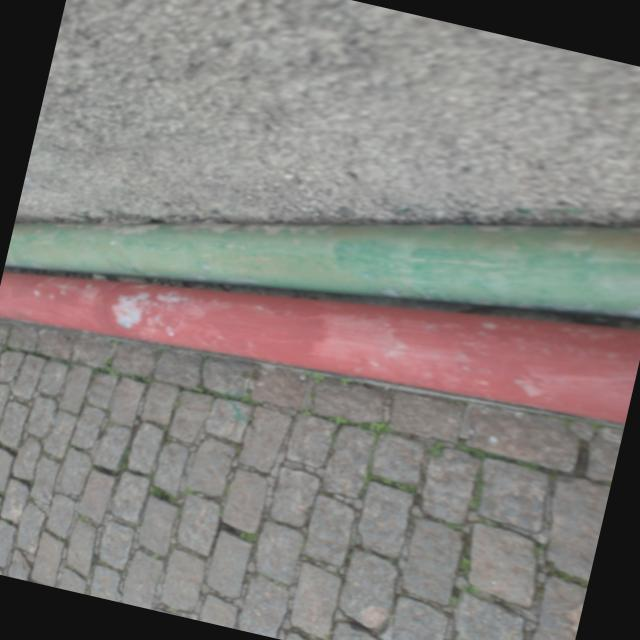gas: (0, 269, 640, 420), (5, 220, 640, 321)
